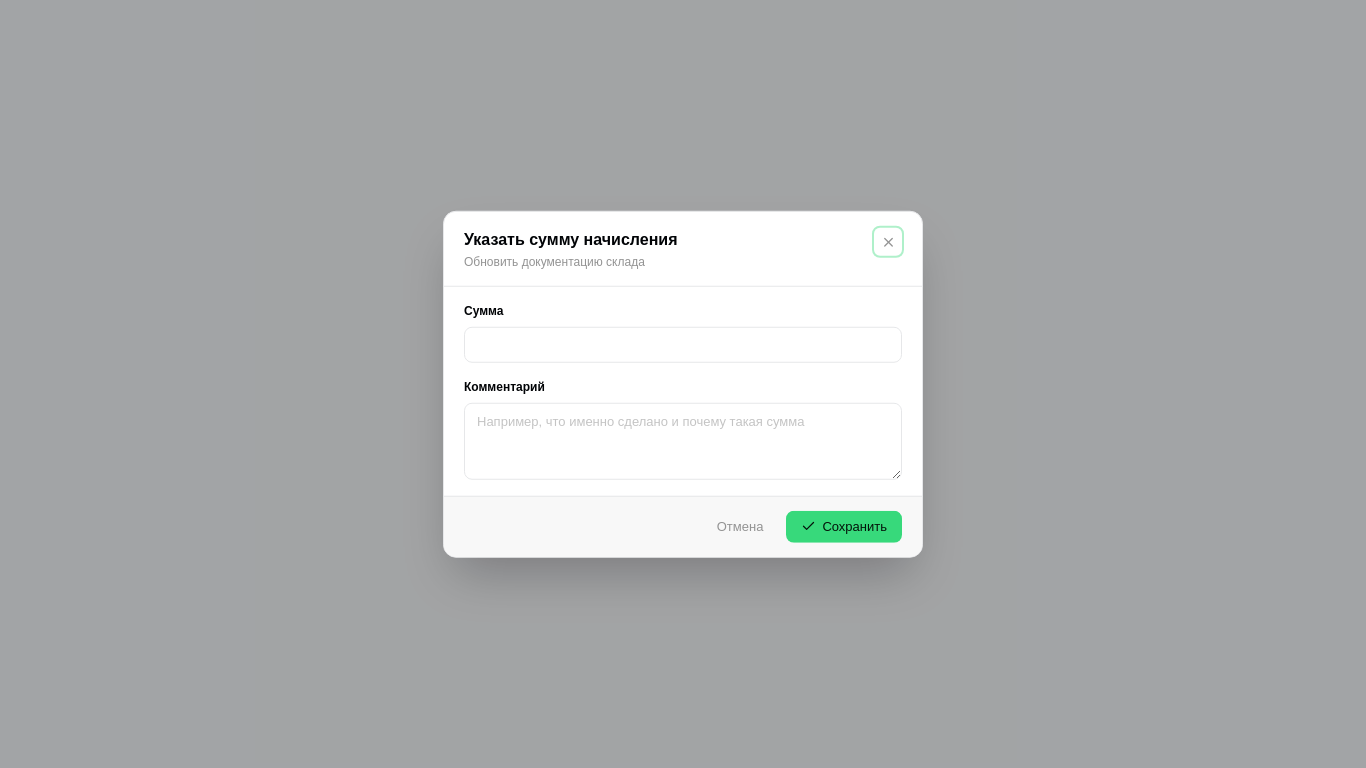
Test: SetTaskRewardModal › показывает ошибку валидации и не вызывает мутацию, когда комментарий пустой
The image size is (1366, 768).
Type "5000" into the number field named "Сумма" at (683, 345), box [464,327,902,363]
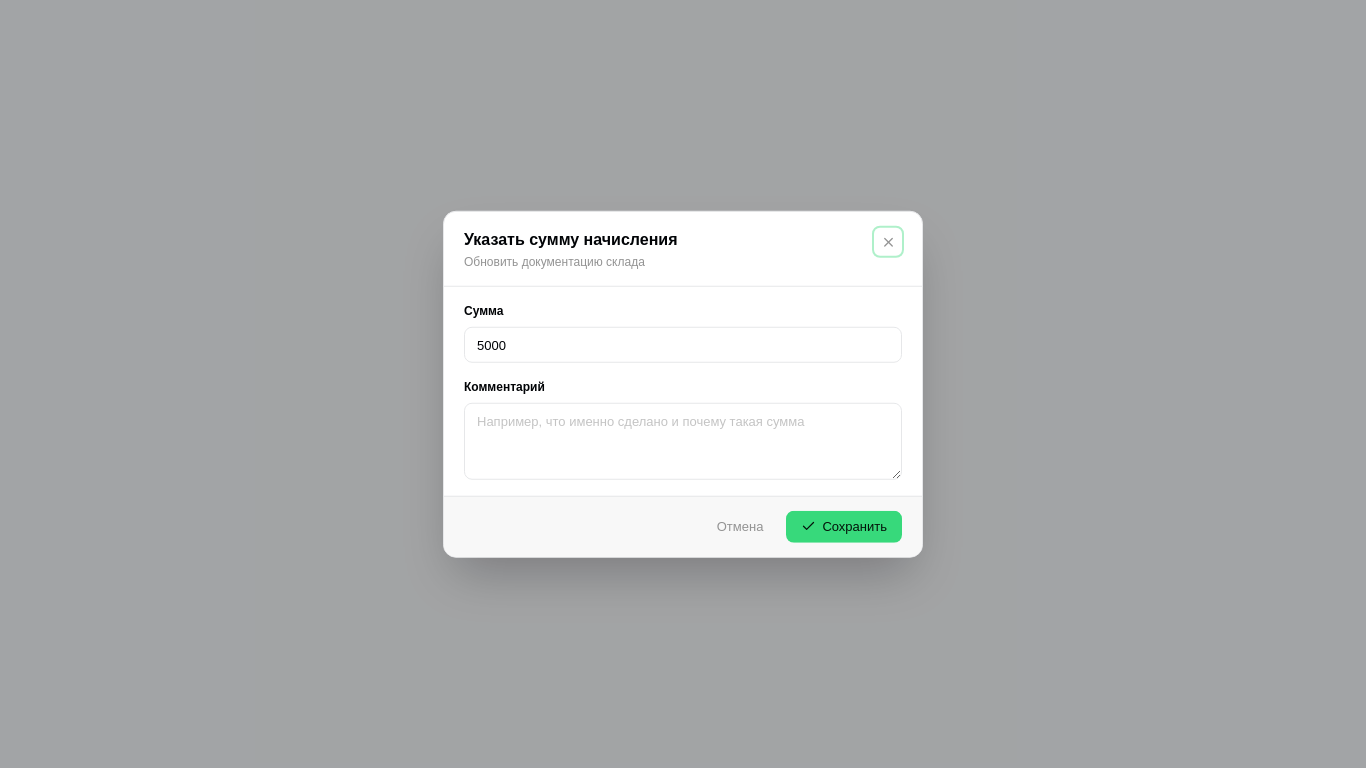
Click the button "Сохранить" at (844, 526), box [786,510,902,542]
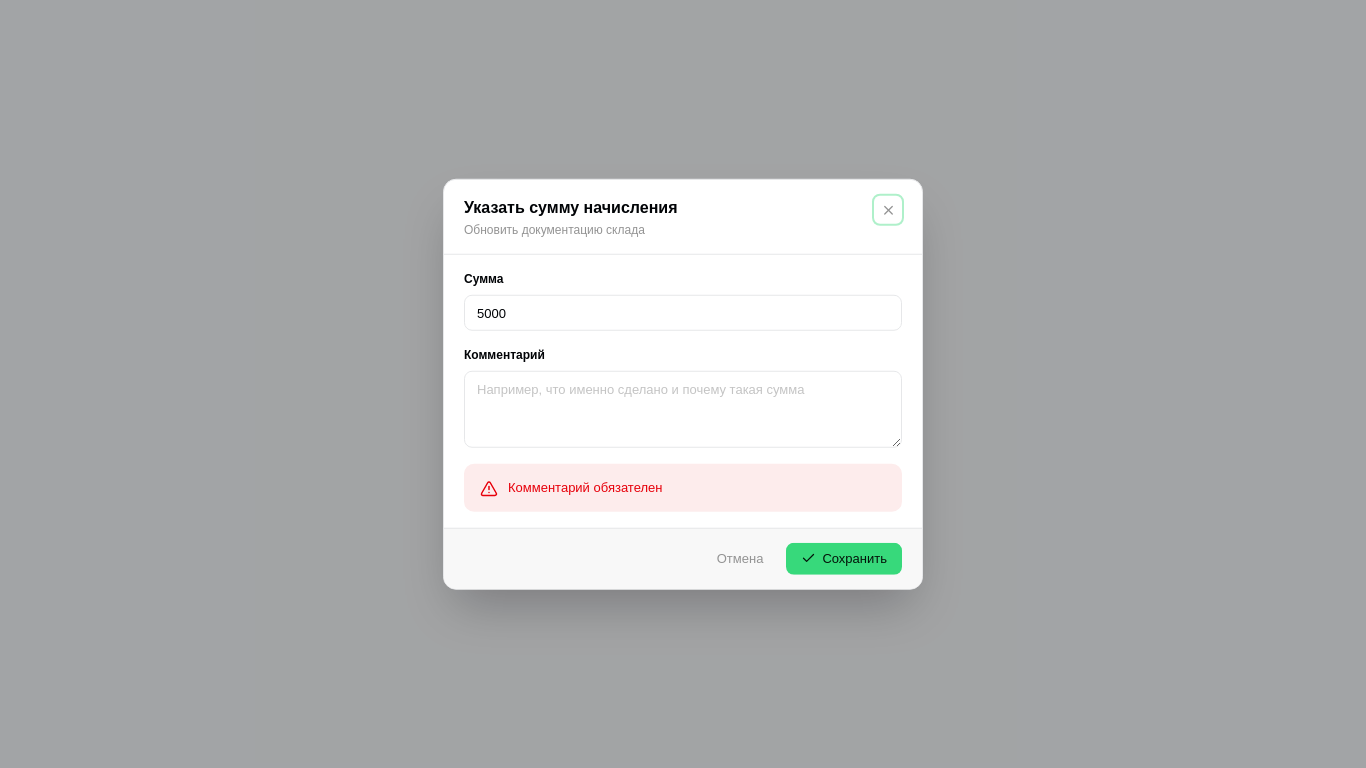
Check: the text "Комментарий обязателен" is shown, box [508,477,662,497]
